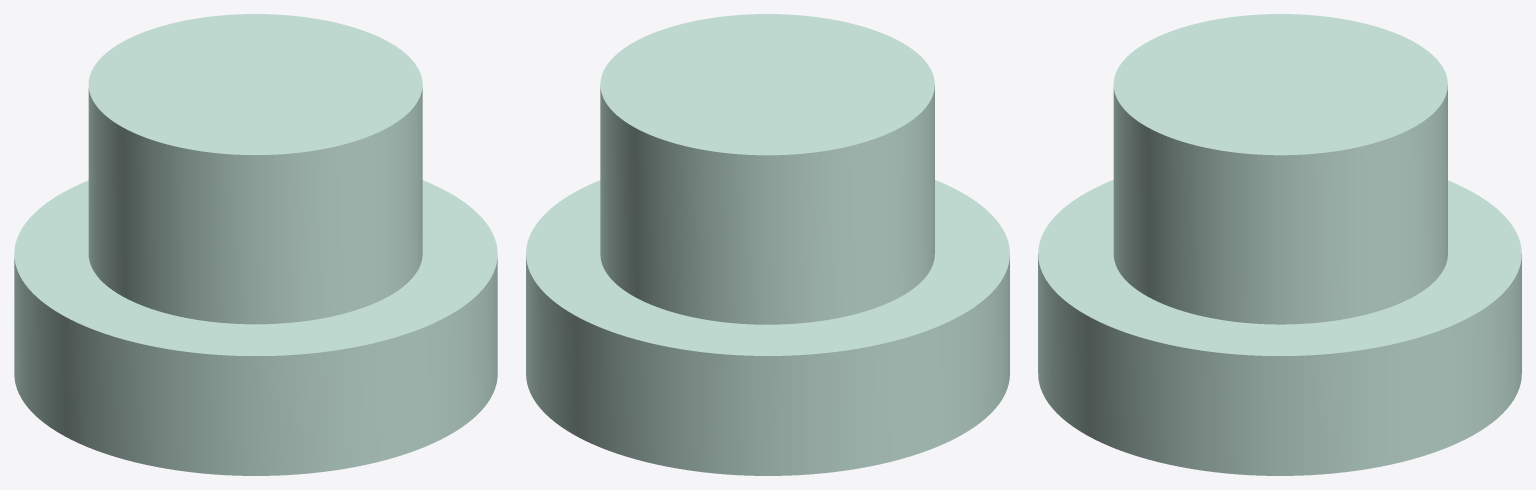
3 views of the same model, side by side, from view 1: azimuth 30°, elevation 25°; view 2: azimuth 150°, elevation 25°; view 3: azimuth 270°, elevation 25° (orthographic).
Parts seen in each view (by area): view 1: Renderer Node; view 2: Renderer Node; view 3: Renderer Node.
Boxes of the visible parts, x1,y1,x2,y2 form: Renderer Node: [14, 14, 497, 475]; Renderer Node: [526, 14, 1009, 475]; Renderer Node: [1038, 14, 1521, 475].
Bounding box in the file's own units: 0.9708 × 0.6406 × 0.9711.
